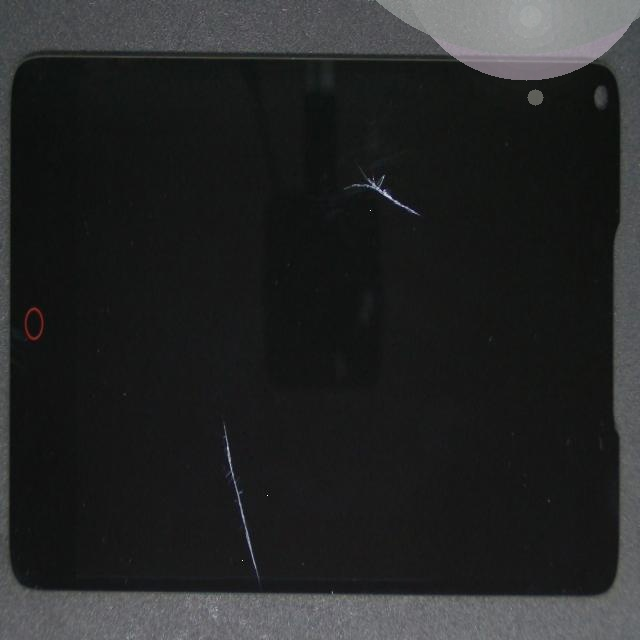scratch: (106, 101, 339, 640), (169, 87, 506, 261)
